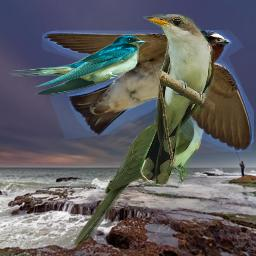Cuckoo: (74, 95, 221, 248), (140, 14, 215, 185)
Swallow: (42, 30, 254, 152), (9, 34, 146, 96)
